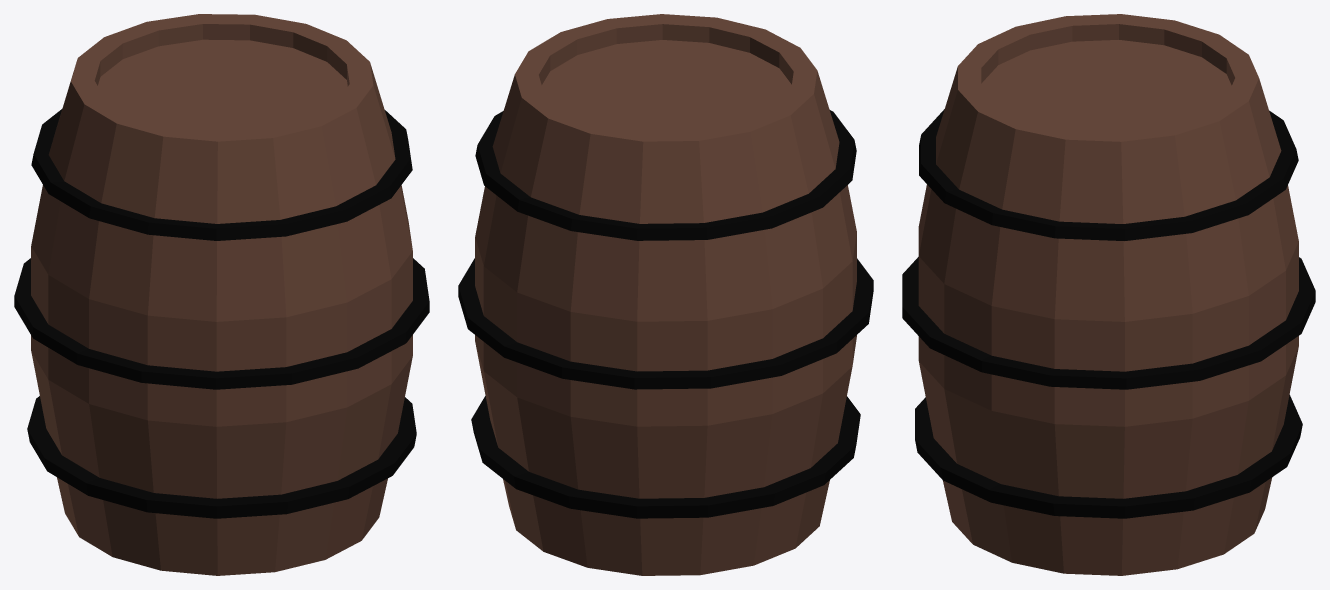
File: tonneau.fbx
3 renders of one model, left to right at view 1: azimuth 30°, elevation 25°; view 2: azimuth 150°, elevation 25°; view 3: azimuth 270°, elevation 25°, orthographic.
Parts seen in each view (by area): view 1: Cylinder.001; view 2: Cylinder.001; view 3: Cylinder.001.
Part boxes in pixels (<box>): Cylinder.001: <box>14,14,429,575</box>; Cylinder.001: <box>458,14,873,575</box>; Cylinder.001: <box>902,14,1315,575</box>.
Bounding box in the file's own units: 355 × 407 × 353.
